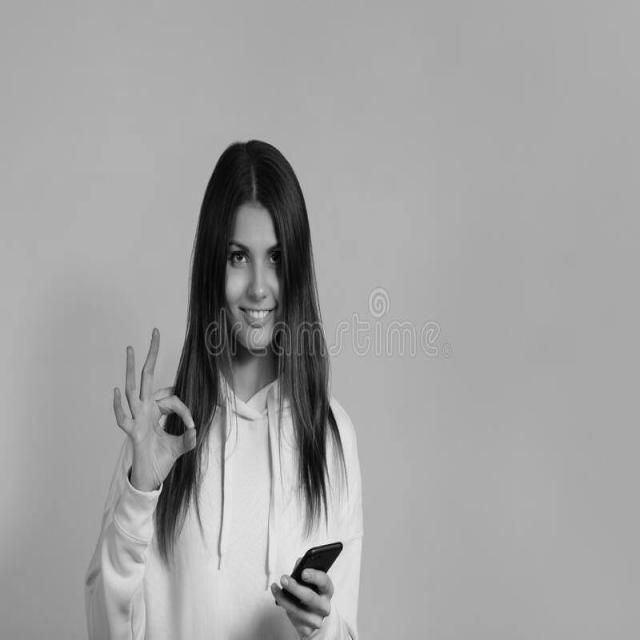perfect: (109, 319, 200, 498)
